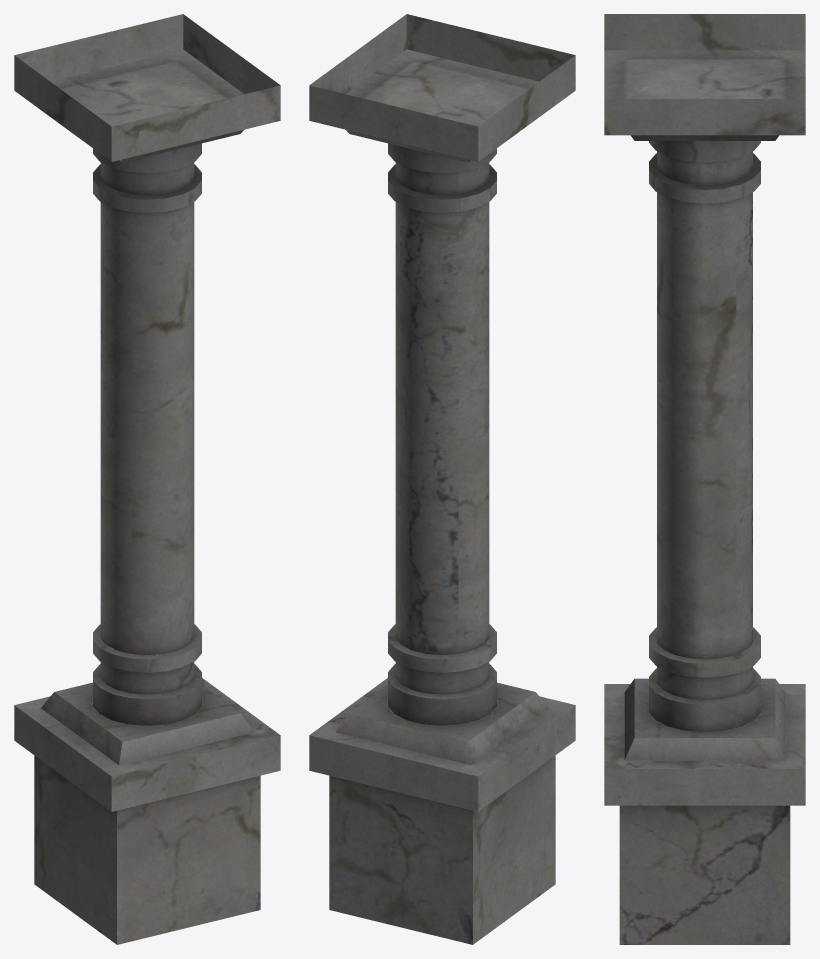
File: pillar.fbx
The picture shows the model from 3 angles, left to right: view 1: azimuth 30°, elevation 25°; view 2: azimuth 150°, elevation 25°; view 3: azimuth 270°, elevation 25°; orthographic projection. The views are drawn at different scales.
Parts seen in each view (by area): view 1: mesh_0; view 2: mesh_0; view 3: mesh_0.
Boxes of the visible parts, x1=… form: mesh_0: x1=14, y1=14, x2=280, y2=944; mesh_0: x1=309, y1=14, x2=575, y2=944; mesh_0: x1=604, y1=14, x2=805, y2=944.
Size of the model in its own units: 50 by 234 by 50.
1 material, 1 textured.
